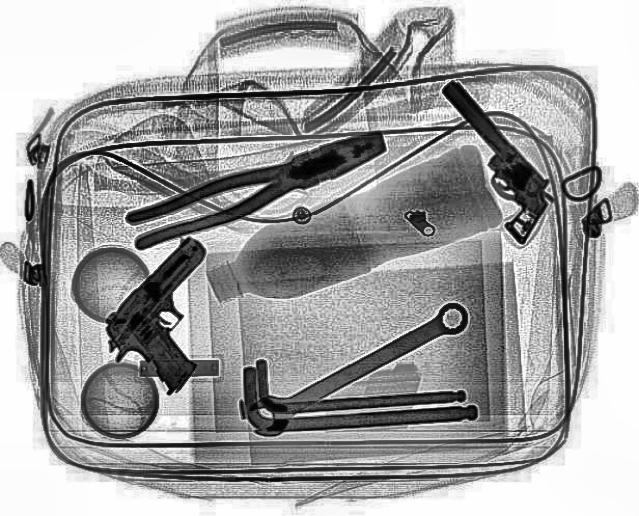Gun: (76, 233, 284, 397), (407, 73, 581, 247)
Pliers: (113, 124, 400, 252)
Wrench: (236, 294, 482, 442)
